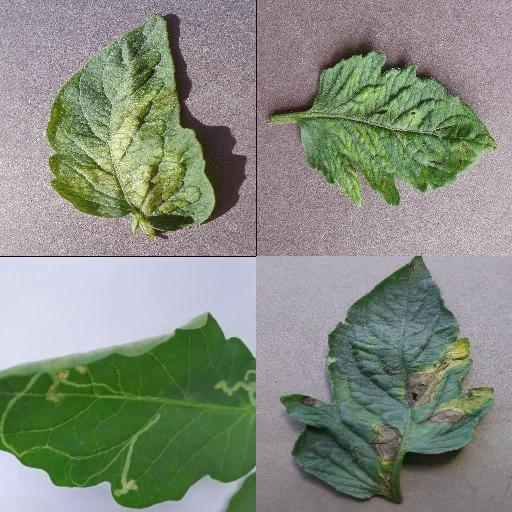Early Blight: (279, 256, 494, 505)
Leaf Miner: (0, 312, 256, 508)
Mosaic Virus: (298, 51, 498, 209)
Spider Mites: (47, 13, 215, 231)
